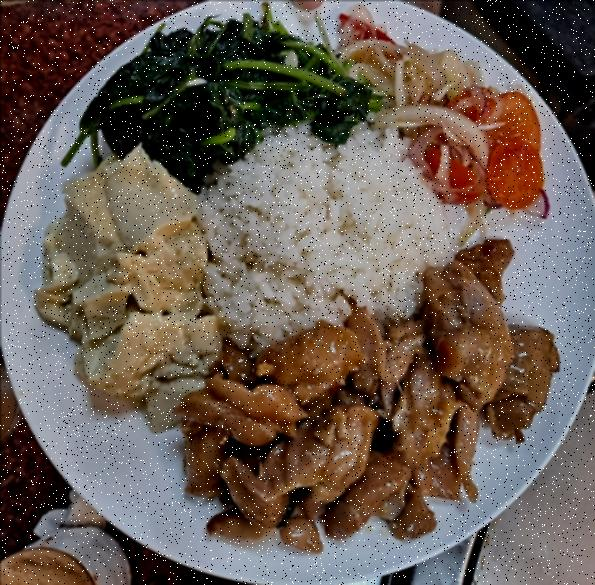plate: (8, 6, 594, 582)
side dish: (29, 148, 219, 418), (93, 5, 354, 178), (334, 18, 550, 208)
three cup chicken: (190, 263, 546, 553)
white rice: (209, 120, 452, 344)
